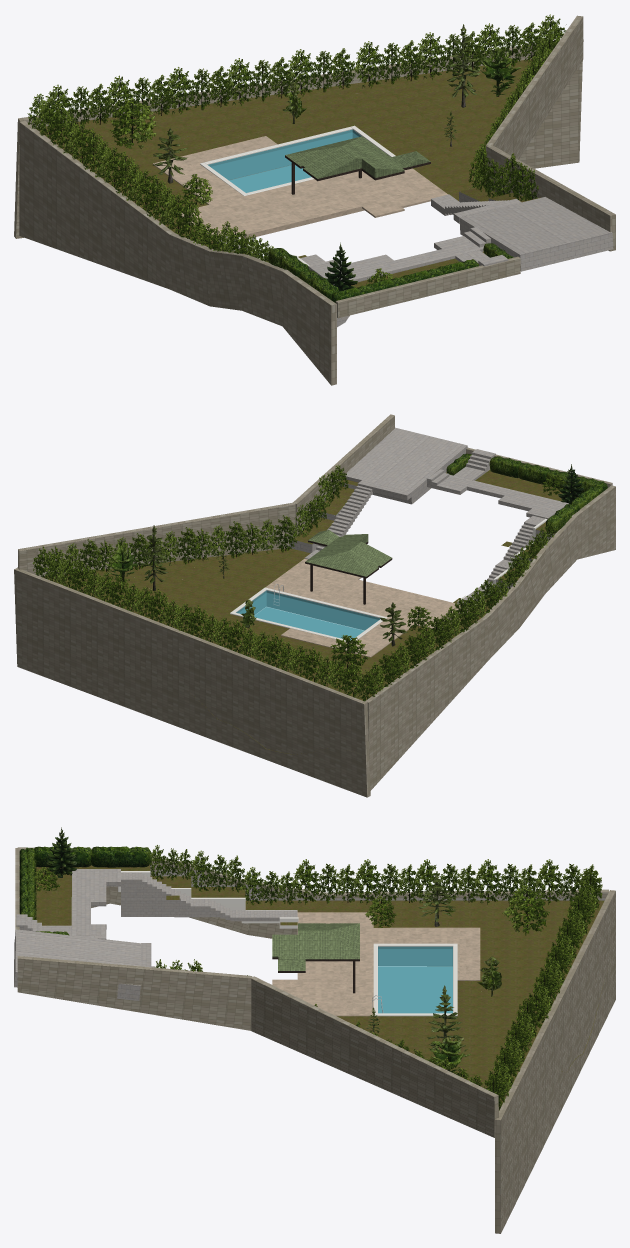
File: GARDEN-opt-v2.glb
3 renders of one model, top to bottom at view 1: azimuth 30°, elevation 25°; view 2: azimuth 150°, elevation 25°; view 3: azimuth 270°, elevation 25°, orthographic. The views are drawn at different scales.
Visible parts, largest first — view 1: Retaining wall rough limestone.002, tripo_node_668e24d5-4125-4751-ae2e-92d793b8b138.080, plot-grass.001, stone_tile (4).002, Retaining wall rough limestone (1).001, canopy.001, pool_tile.001, water.001, white_trim (5).001, Garden | Dark stained canopy timber.001; view 2: Retaining wall rough limestone.002, tripo_node_668e24d5-4125-4751-ae2e-92d793b8b138.080, plot-grass.001, Retaining wall rough limestone (1).001, stone_tile (4).002, pool_tile.001, water.001, canopy.001, white_trim (5).001; view 3: Retaining wall rough limestone.002, tripo_node_668e24d5-4125-4751-ae2e-92d793b8b138.080, plot-grass.001, Retaining wall rough limestone (1).001, stone_tile (4).002, pool_tile.001, water.001, canopy.001, white_trim (5).001.
Boxes of the visible parts, x1=… form: Retaining wall rough limestone.002: x1=14, y1=15, x2=615, y2=385; tripo_node_668e24d5-4125-4751-ae2e-92d793b8b138.080: x1=27, y1=14, x2=566, y2=302; plot-grass.001: x1=38, y1=59, x2=542, y2=291; stone_tile (4).002: x1=152, y1=136, x2=447, y2=238; Retaining wall rough limestone (1).001: x1=221, y1=191, x2=613, y2=327; canopy.001: x1=285, y1=136, x2=430, y2=178; pool_tile.001: x1=208, y1=129, x2=361, y2=192; water.001: x1=211, y1=132, x2=358, y2=192; white_trim (5).001: x1=200, y1=125, x2=395, y2=265; Garden | Dark stained canopy timber.001: x1=285, y1=155, x2=430, y2=194; Retaining wall rough limestone.002: x1=14, y1=414, x2=615, y2=797; tripo_node_668e24d5-4125-4751-ae2e-92d793b8b138.080: x1=32, y1=453, x2=607, y2=701; plot-grass.001: x1=43, y1=461, x2=586, y2=754; Retaining wall rough limestone (1).001: x1=289, y1=427, x2=568, y2=604; stone_tile (4).002: x1=265, y1=558, x2=471, y2=657; pool_tile.001: x1=236, y1=590, x2=380, y2=639; water.001: x1=239, y1=593, x2=378, y2=639; canopy.001: x1=305, y1=530, x2=391, y2=576; white_trim (5).001: x1=230, y1=518, x2=547, y2=641; Retaining wall rough limestone.002: x1=15, y1=847, x2=615, y2=1233; tripo_node_668e24d5-4125-4751-ae2e-92d793b8b138.080: x1=19, y1=827, x2=602, y2=1110; plot-grass.001: x1=19, y1=864, x2=604, y2=1106; Retaining wall rough limestone (1).001: x1=14, y1=869, x2=605, y2=1000; stone_tile (4).002: x1=272, y1=912, x2=480, y2=1016; pool_tile.001: x1=378, y1=946, x2=452, y2=1013; water.001: x1=378, y1=949, x2=452, y2=1012; canopy.001: x1=272, y1=923, x2=359, y2=970; white_trim (5).001: x1=118, y1=871, x2=457, y2=1016.
Bounding box in the file's own units: 36.33 × 13.8 × 39.35.
Materials: 12 (8 with a texture image).
